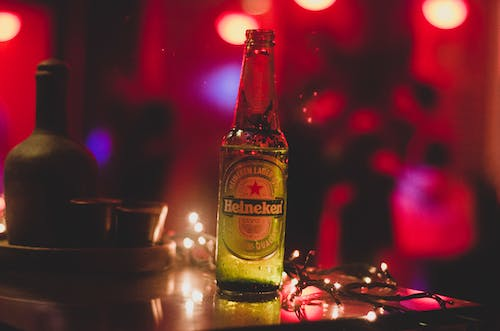alcohol: (214, 28, 290, 297), (3, 60, 99, 250)
